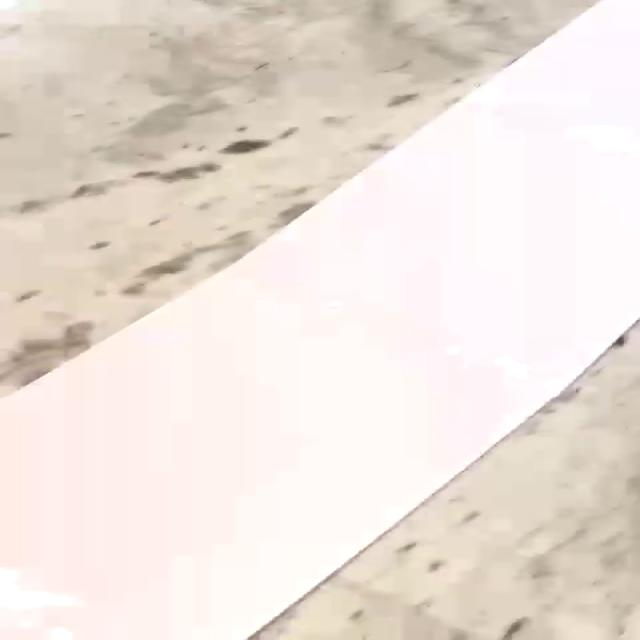road: (0, 0, 640, 640)
